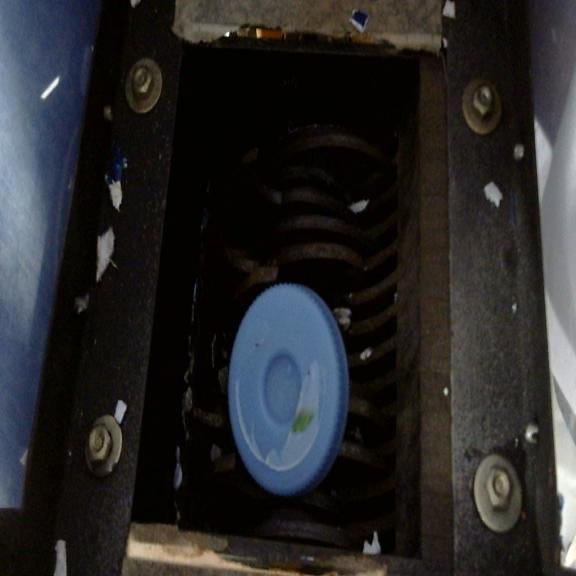Plastik: (206, 281, 392, 512)
